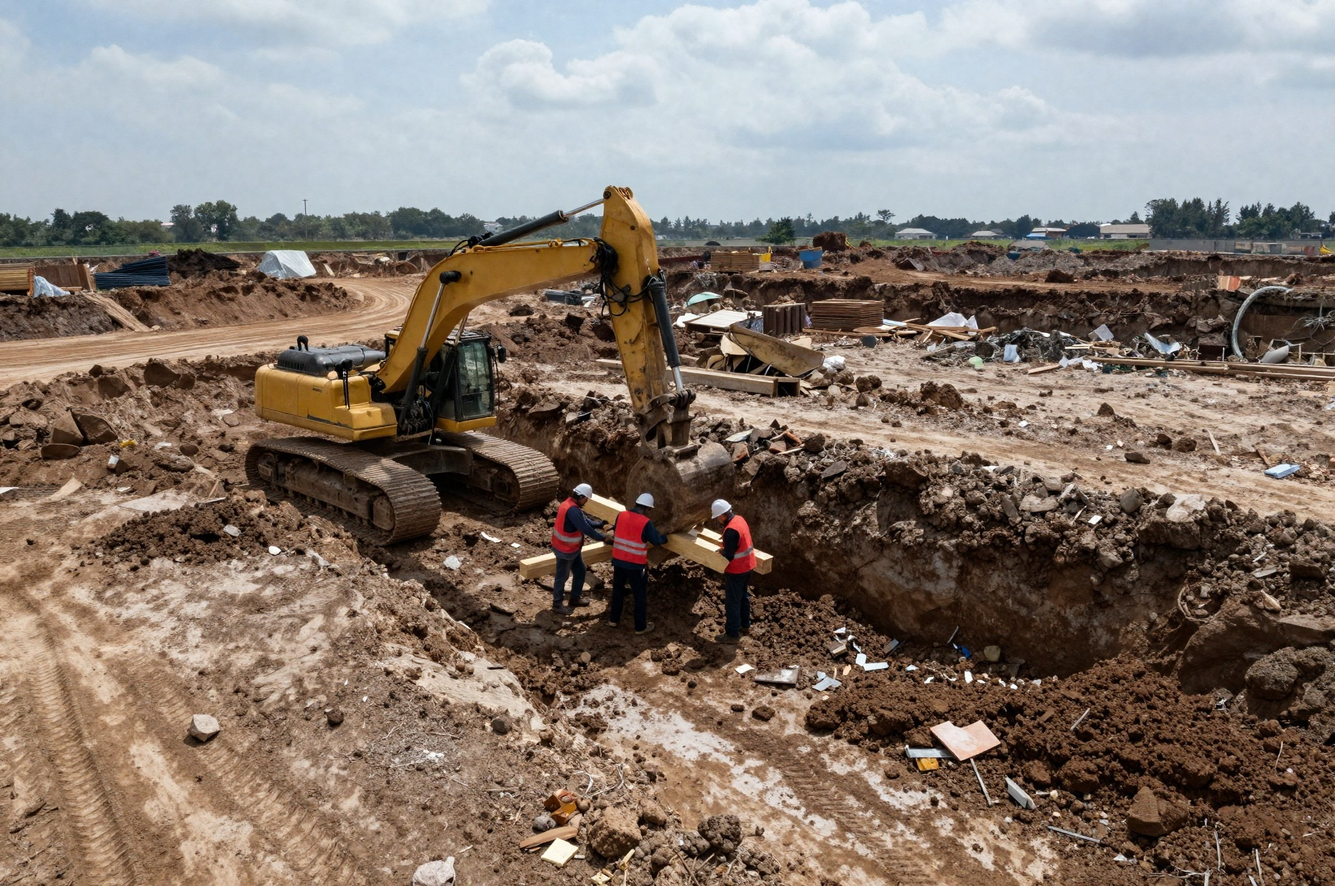helmet: (702, 493, 739, 518), (568, 478, 597, 502), (629, 488, 658, 508)
vests: (714, 516, 763, 573), (613, 506, 652, 567), (551, 498, 585, 557)
